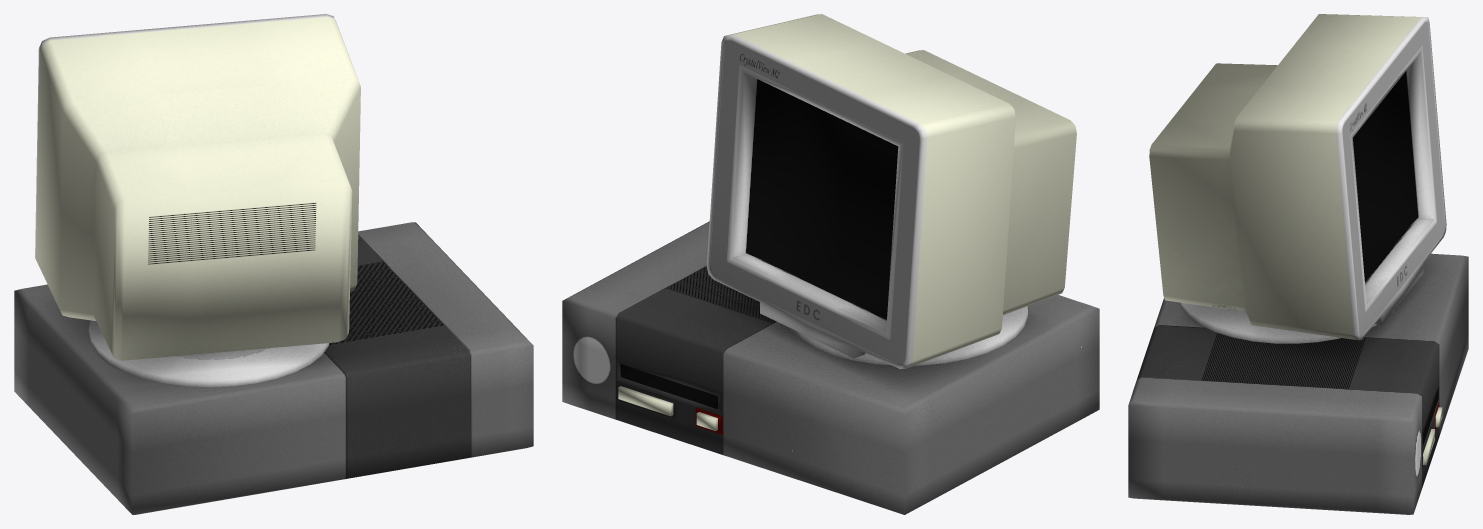
File: SM_ScreenPCNew.fbx
3 renders of one model, left to right at view 1: azimuth 30°, elevation 25°; view 2: azimuth 150°, elevation 25°; view 3: azimuth 270°, elevation 25°, orthographic. The views are drawn at different scales.
Parts seen in each view (by area): view 1: SM_ScreenCdVideo.001; view 2: SM_ScreenCdVideo.001; view 3: SM_ScreenCdVideo.001.
Boxes of the visible parts, x1,y1,x2,y2 form: SM_ScreenCdVideo.001: (14, 14, 533, 514); SM_ScreenCdVideo.001: (562, 14, 1099, 514); SM_ScreenCdVideo.001: (1128, 14, 1468, 514).
Bounding box in the file's own units: 0.4803 × 0.4164 × 0.3782.
Materials: 1 (1 with a texture image).
